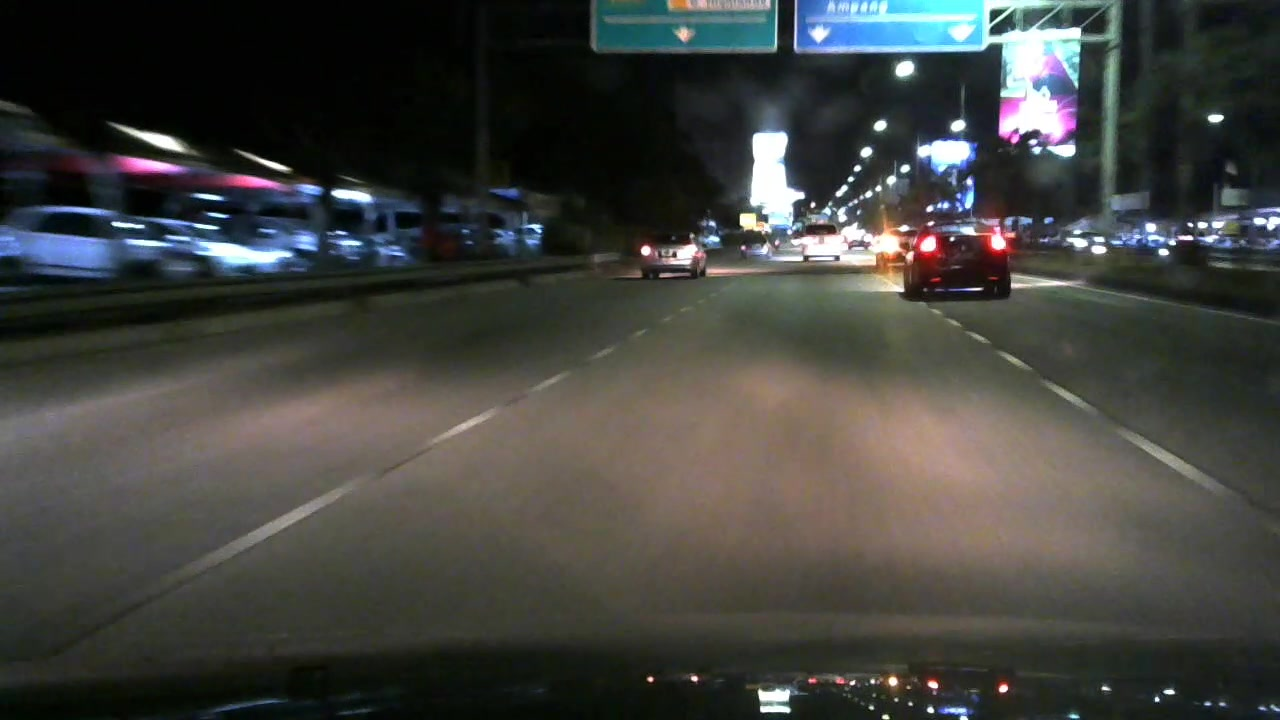Car: (895, 209, 1012, 311), (630, 226, 721, 289), (794, 216, 848, 262), (732, 229, 773, 259)
